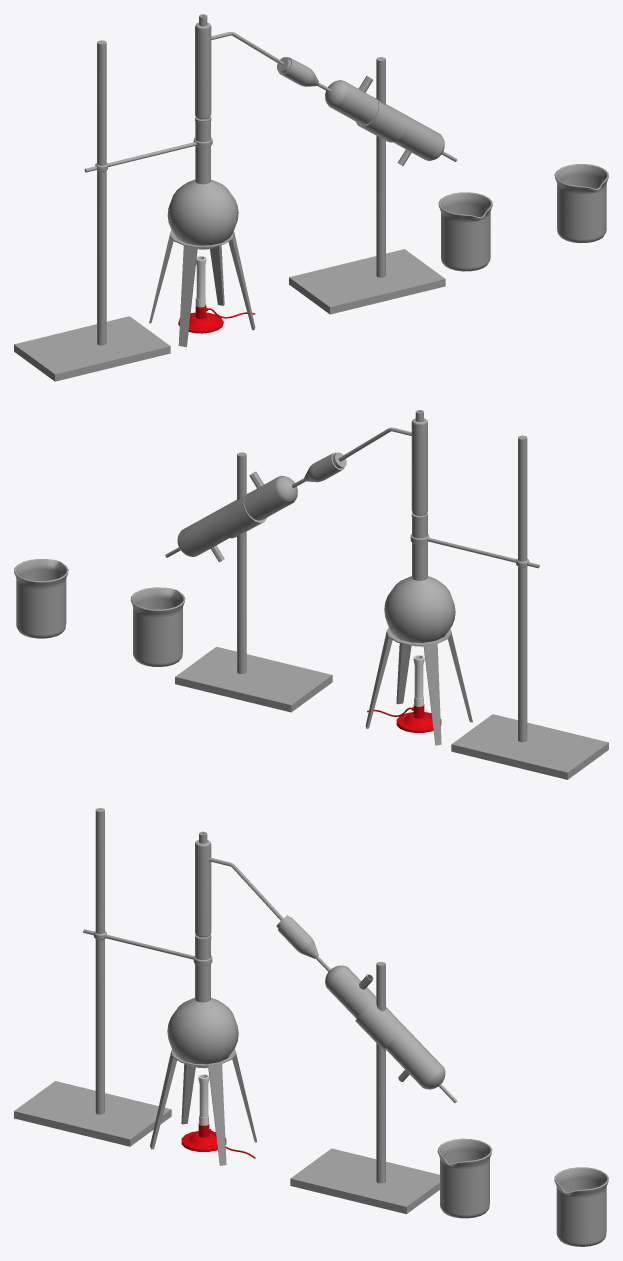
Rendered from Application of fractional distillation.fbx.
The picture shows the model from 3 angles, top to bottom: view 1: azimuth 30°, elevation 25°; view 2: azimuth 150°, elevation 25°; view 3: azimuth 330°, elevation 25°; orthographic projection.
Visible parts, largest first — view 1: pCube4, pCube5, polySurface17, polySurface4, polySurface22, pSphere3, pCylinder21, polySurface13, polySurface23, pCylinder24, bunsun burner, polySurface21 (+1 smaller); view 2: pCube4, pCube5, polySurface17, polySurface22, polySurface4, pSphere3, pCylinder21, polySurface13, polySurface23, pCylinder24, bunsun burner, polySurface21 (+1 smaller); view 3: pCube5, pCube4, polySurface17, polySurface22, pSphere3, polySurface4, pCylinder21, polySurface13, polySurface23, pCylinder24, bunsun burner, polySurface21 (+1 smaller).
Boxes of the visible parts, left/top/right/bottom form: pCube4: left=14, top=316, right=170, bottom=381; pCube5: left=289, top=249, right=445, bottom=314; polySurface17: left=167, top=122, right=238, bottom=249; polySurface4: left=438, top=192, right=492, bottom=271; polySurface22: left=554, top=164, right=608, bottom=243; pSphere3: left=325, top=76, right=444, bottom=165; pCylinder21: left=95, top=40, right=108, bottom=345; polySurface13: left=149, top=230, right=255, bottom=347; polySurface23: left=195, top=14, right=283, bottom=119; pCylinder24: left=376, top=57, right=385, bottom=277; bunsun burner: left=178, top=256, right=255, bottom=333; polySurface21: left=356, top=98, right=406, bottom=142; pCube4: left=451, top=714, right=608, bottom=779; pCube5: left=175, top=646, right=332, bottom=712; polySurface17: left=384, top=518, right=455, bottom=646; polySurface22: left=14, top=559, right=68, bottom=638; polySurface4: left=130, top=587, right=185, bottom=666; pSphere3: left=177, top=471, right=297, bottom=562; pCylinder21: left=516, top=435, right=529, bottom=742; polySurface13: left=365, top=627, right=472, bottom=745; polySurface23: left=338, top=410, right=427, bottom=515; pCylinder24: left=237, top=452, right=246, bottom=673; bunsun burner: left=367, top=655, right=441, bottom=732; polySurface21: left=216, top=493, right=267, bottom=538; pCube5: left=290, top=1148, right=439, bottom=1213; pCube4: left=14, top=1081, right=171, bottom=1146; polySurface17: left=167, top=939, right=238, bottom=1068; polySurface22: left=554, top=1167, right=608, bottom=1246; pSphere3: left=325, top=965, right=445, bottom=1089; polySurface4: left=437, top=1138, right=492, bottom=1218; pCylinder21: left=93, top=808, right=106, bottom=1114; polySurface13: left=150, top=1048, right=257, bottom=1165; polySurface23: left=195, top=831, right=283, bottom=937; pCylinder24: left=376, top=961, right=385, bottom=1183; bunsun burner: left=181, top=1074, right=255, bottom=1158; polySurface21: left=355, top=1001, right=395, bottom=1050.
Bounding box in the file's own units: 153 × 80.21 × 19.18.
